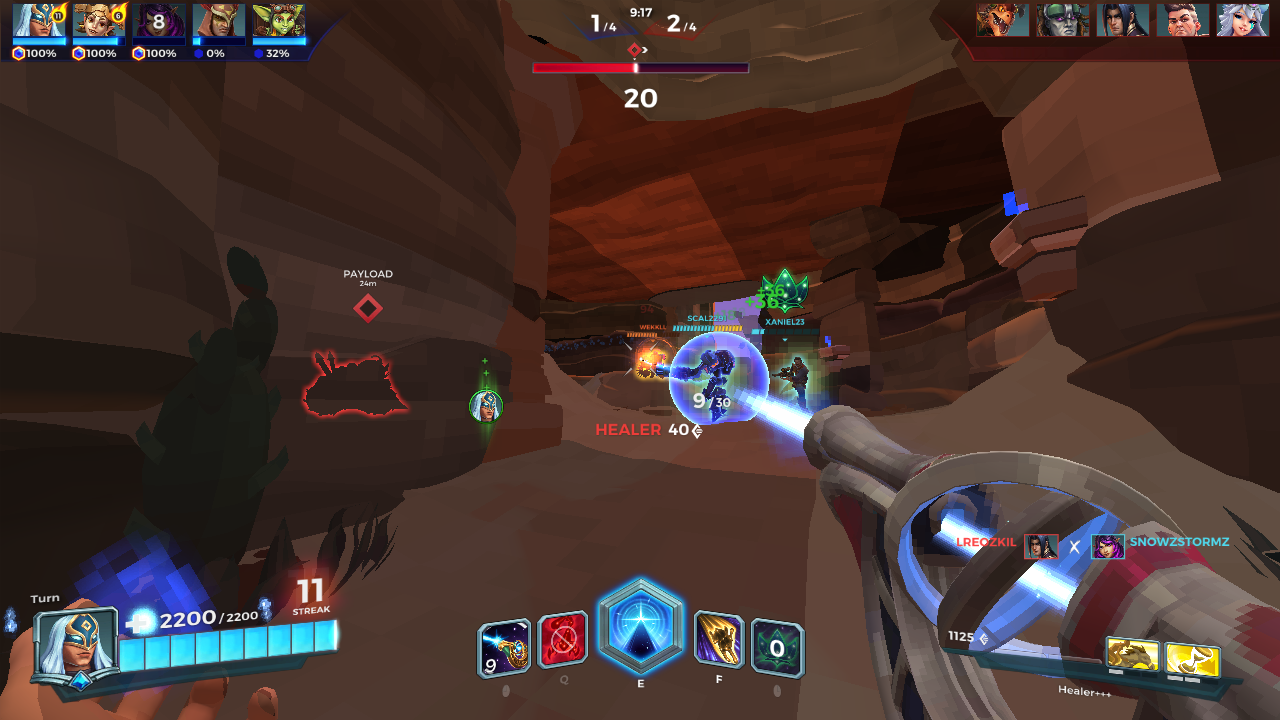model: (628, 339, 683, 385)
